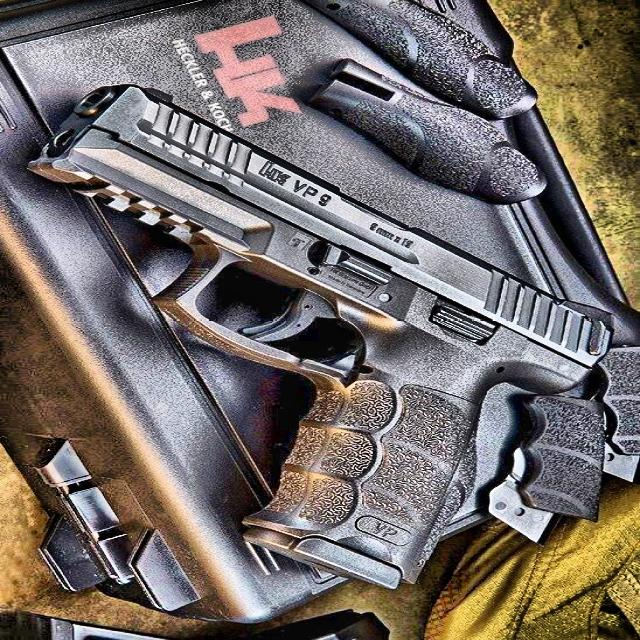HKVP9: (31, 80, 616, 592)
